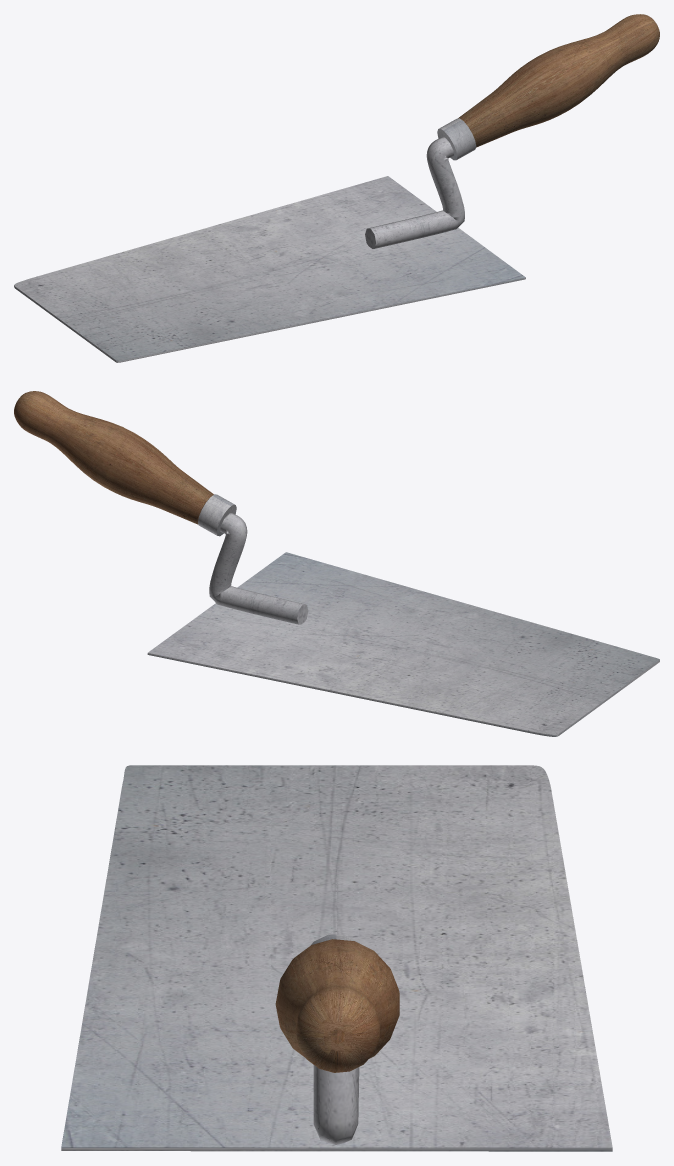
File: Trowel2.fbx
The picture shows the model from 3 angles, top to bottom: view 1: azimuth 30°, elevation 25°; view 2: azimuth 150°, elevation 25°; view 3: azimuth 270°, elevation 25°; orthographic projection. The views are drawn at different scales.
Visible parts, largest first — view 1: Plate, Handle, HandleConnection, HandleRing; view 2: Plate, Handle, HandleConnection, HandleRing; view 3: Plate, Handle, HandleConnection.
Part boxes in pixels (x1,y1,x2,y2): Plate: [14, 176, 525, 362]; Handle: [458, 14, 659, 147]; HandleConnection: [365, 137, 464, 248]; HandleRing: [437, 118, 476, 160]; Plate: [147, 552, 659, 736]; Handle: [14, 391, 213, 524]; HandleConnection: [209, 513, 308, 624]; HandleRing: [198, 494, 236, 536]; Plate: [61, 765, 612, 1151]; Handle: [275, 939, 399, 1072]; HandleConnection: [313, 1065, 359, 1144].
Bounding box in the file's own units: 10.4 × 2.81 × 4.2.
Materials: 2 (2 with a texture image).
